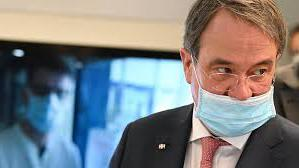mask_weared_incorrect: (195, 45, 275, 130)
with_mask: (28, 77, 70, 133)
